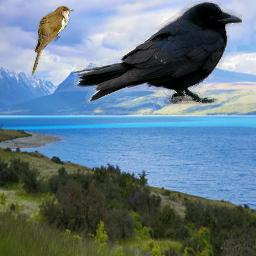Crow: (74, 1, 242, 104)
Cuckoo: (32, 5, 74, 75)
